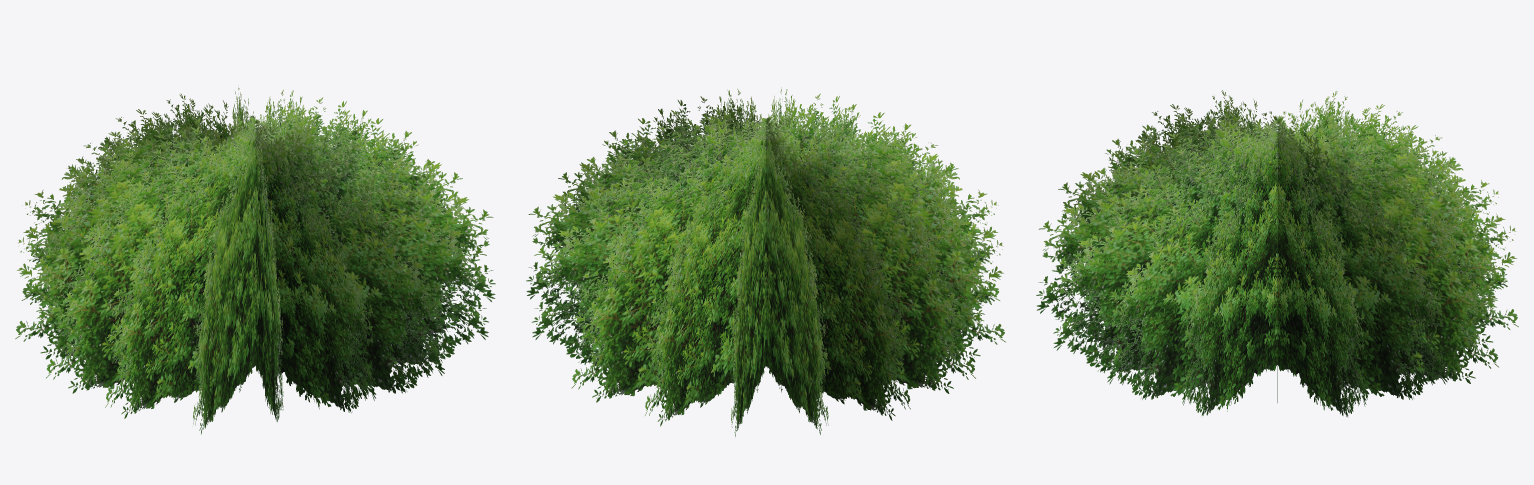
File: bush2.fbx
3 renders of one model, left to right at view 1: azimuth 30°, elevation 25°; view 2: azimuth 150°, elevation 25°; view 3: azimuth 270°, elevation 25°, orthographic.
Visible parts, largest first — view 1: bush2; view 2: bush2; view 3: bush2.
Boxes of the visible parts, left/top/right/bottom form: bush2: left=15, top=85, right=495, bottom=434; bush2: left=526, top=87, right=1005, bottom=436; bush2: left=1036, top=90, right=1518, bottom=417.
Size of the model in its own units: 74.61 by 42.83 by 74.61.
1 material, 1 textured.
